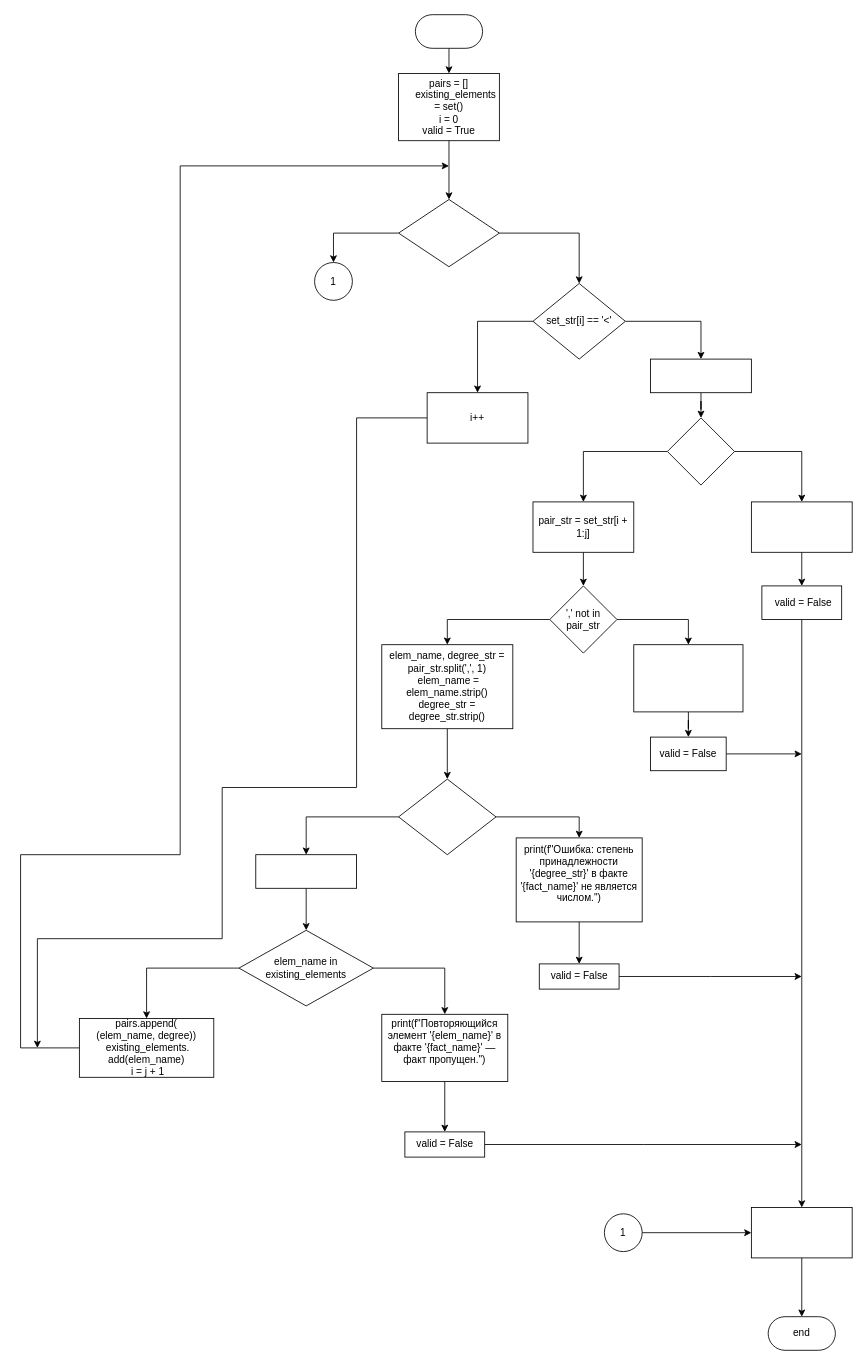
The diagram is 867 pixels wide and 1365 high, and some of its shapes have lost their labels. Here are the shapes that lost their labels. From the top down, the centre of each, then its label:
the point at 449,31: begin
the point at 448,233: i<len(set_str)
the point at 700,375: j = set_str.find('>', i)
the point at 701,451: j == -1
the point at 801,526: print(f"Ошибка синтаксиса в факте '{fact_name}' — пропущен '>'")
the point at 688,678: print(f"Ошибка в паре '{pair_str}' в факте '{fact_name}' — пропущена запятая")
the point at 447,816: not self._is_float (degree_str)
the point at 306,871: degree = float(degree_str)
the point at 801,1232: return pairs if valid else None
